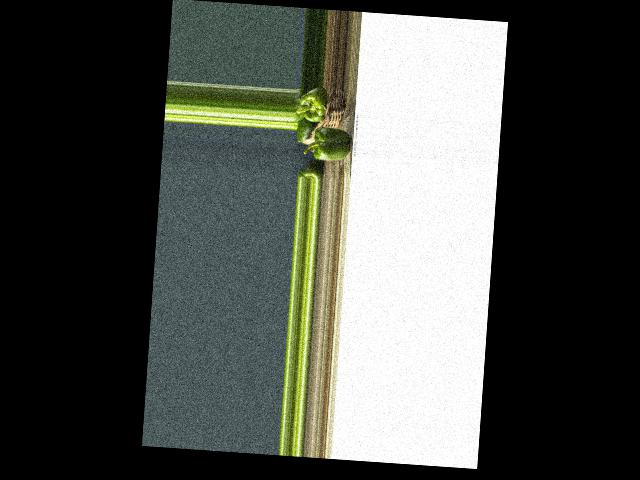bell_pepper: (298, 165, 319, 180)
